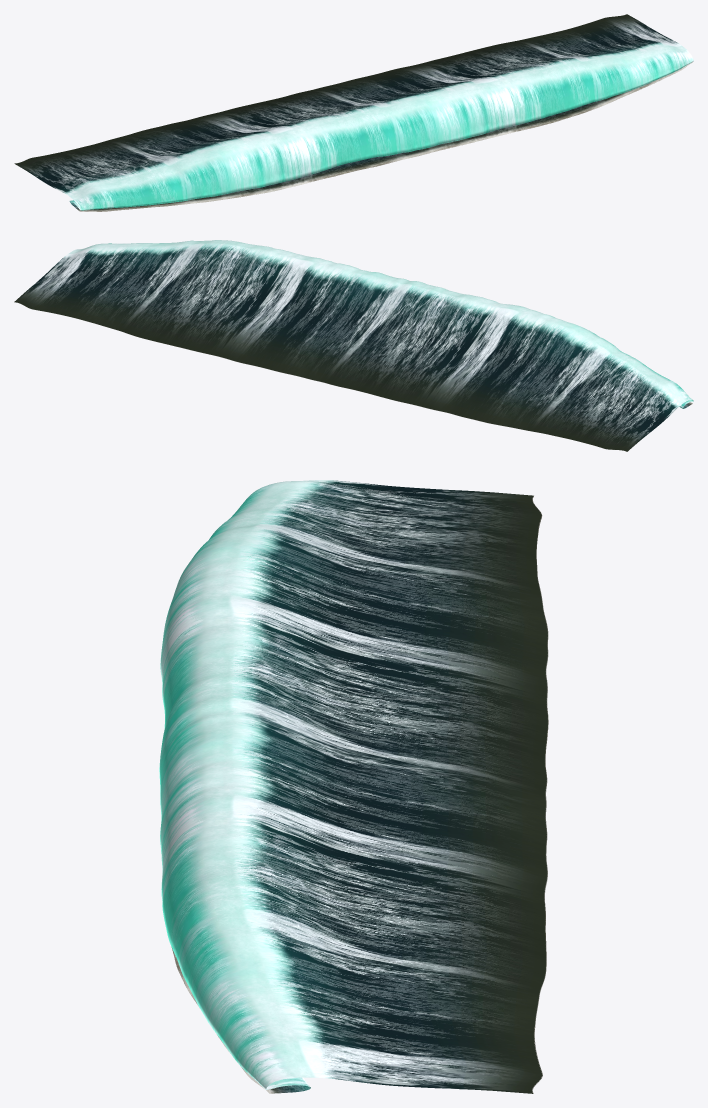
File: wave_c.glb
3 views of the same model, one above another, from view 1: azimuth 30°, elevation 25°; view 2: azimuth 150°, elevation 25°; view 3: azimuth 270°, elevation 25° (orthographic). The views are drawn at different scales.
Size of the model in its own units: 601 by 39.76 by 165.
1 material, 1 textured.
